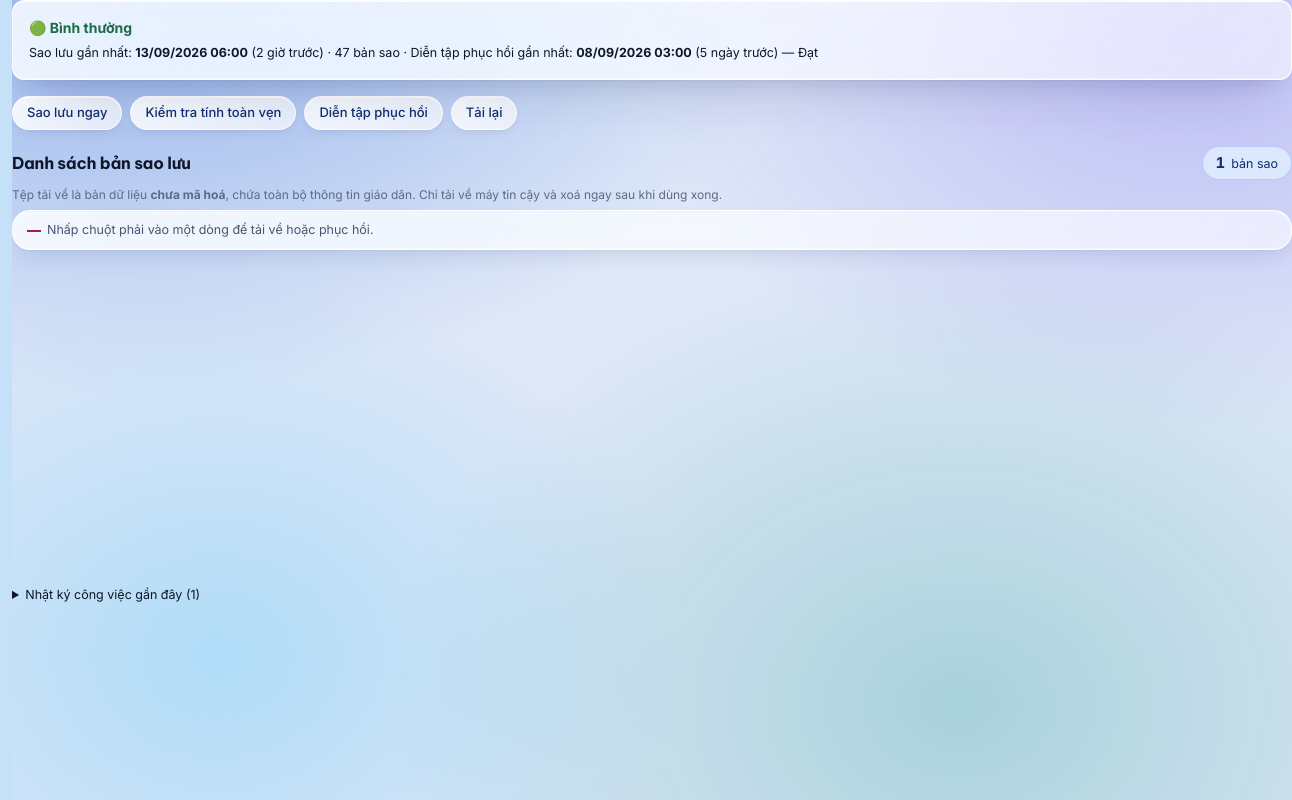
it: SaoLuuPage › xem nhat ky mot cong viec thi goi duong CHI TIET, khong doc tu danh sach
Check: the message with test id "den-xanh" is shown, box [12,0,1291,80]
Click the heading "Nhật ký công việc gần đây (1)": (113, 595) [25,587,200,602]
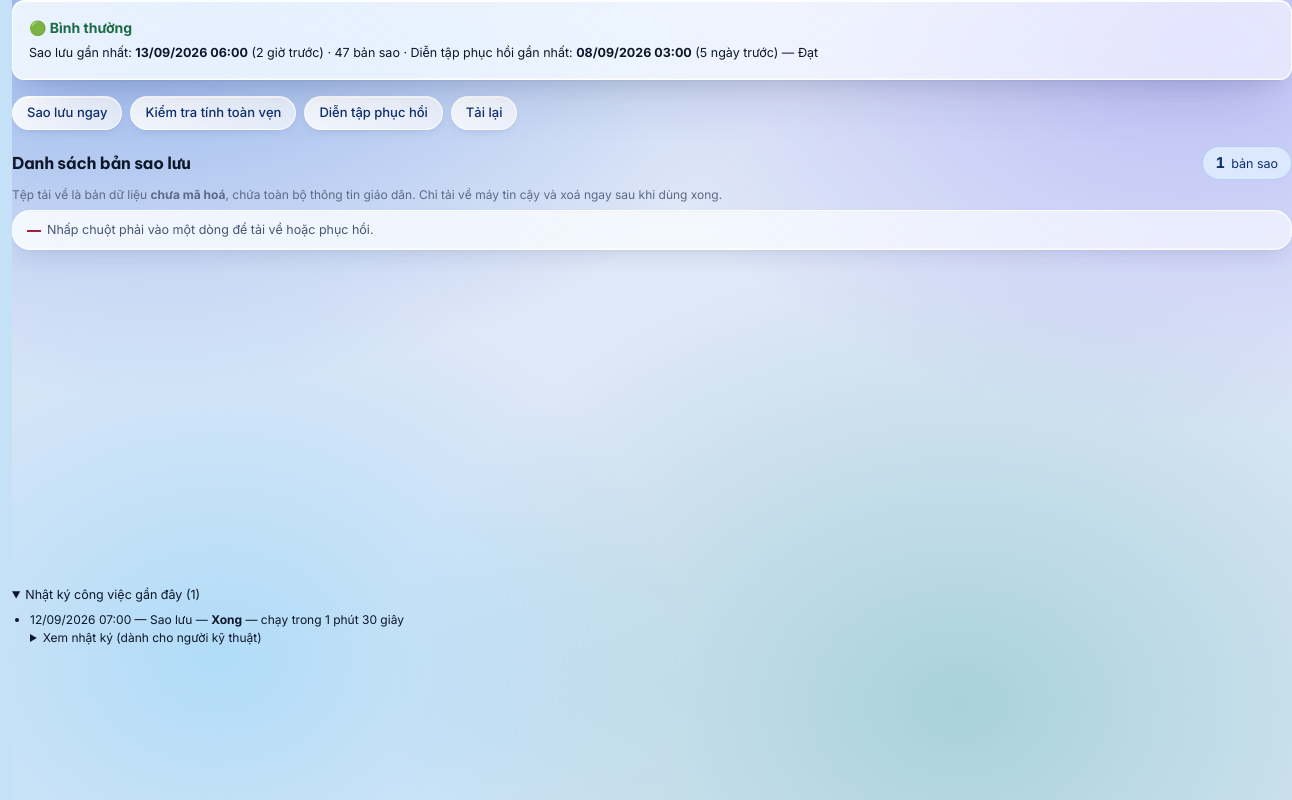
Check: the list item "1 phút 30 giây" is shown, box [242,612,404,627]
Click the heading "Xem nhật ký (dành cho người kỹ thuật)": (152, 638) [43,630,262,645]
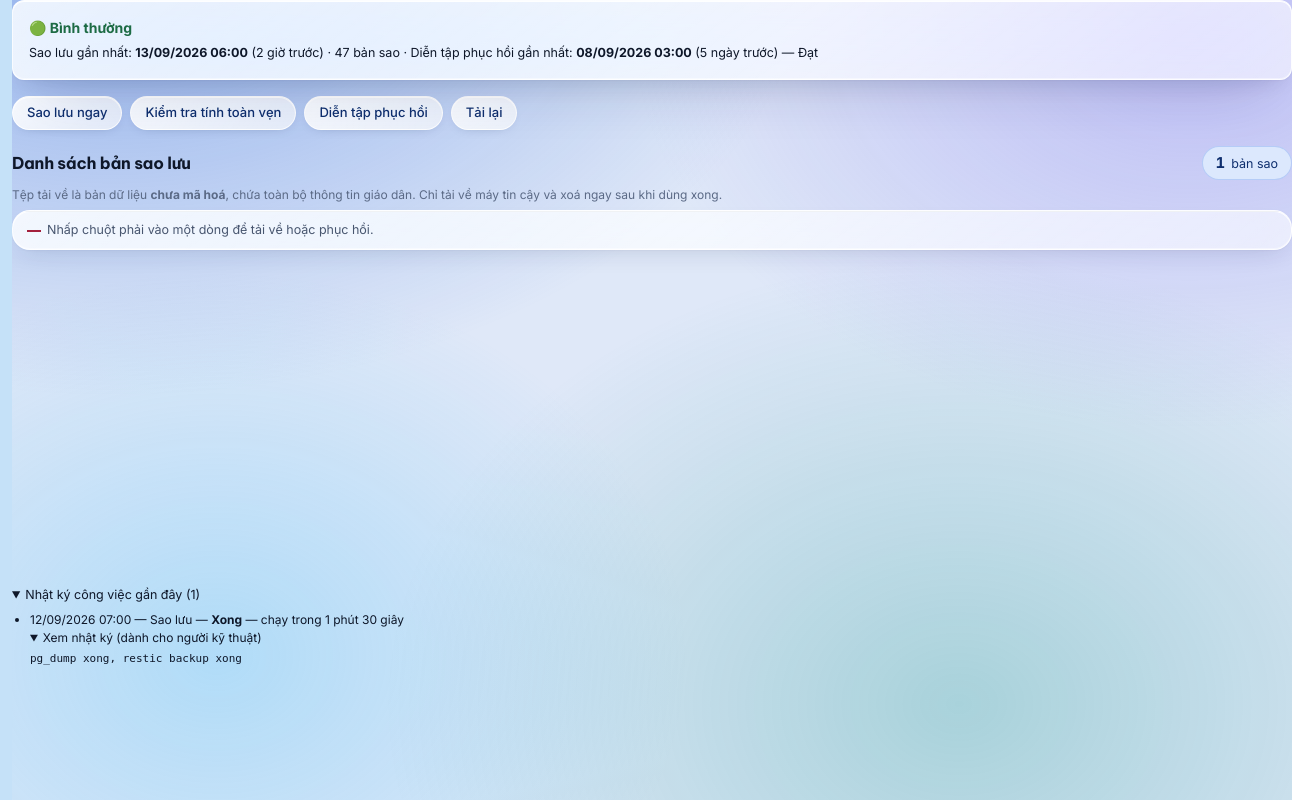
Check: the text "pg_dump xong, restic backup xong" is shown, box [30,652,242,665]
